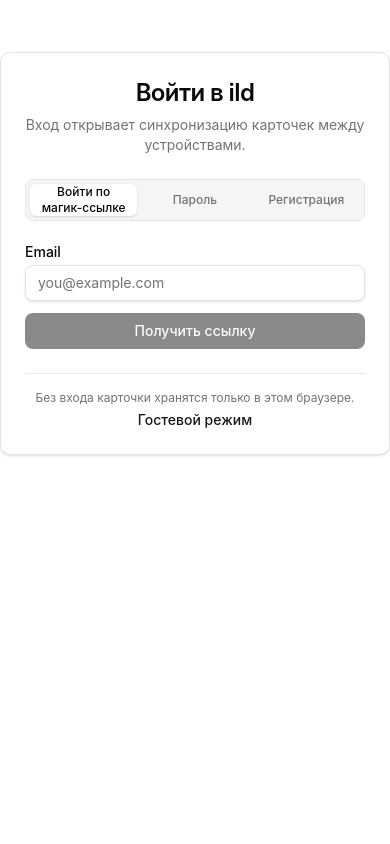
Test: LoginPage › register fail username_taken (409): shows "username уже занят"
Click the tab "Регистрация" at (306, 200), box [253, 184, 360, 216]
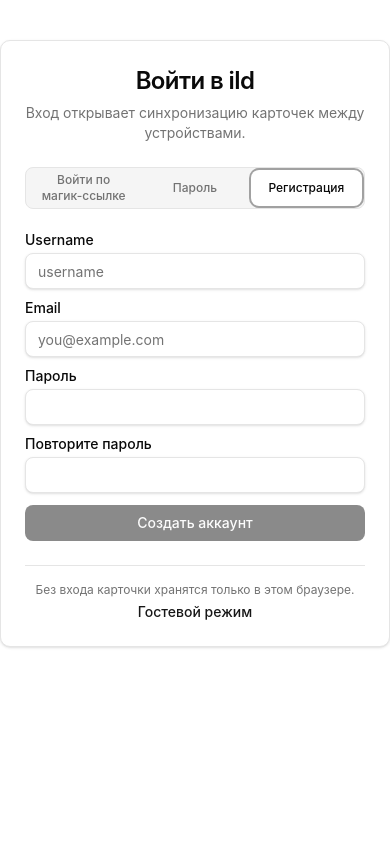
Type "taken_user" into the field labelled "Username" at (195, 271), box [25, 253, 365, 289]
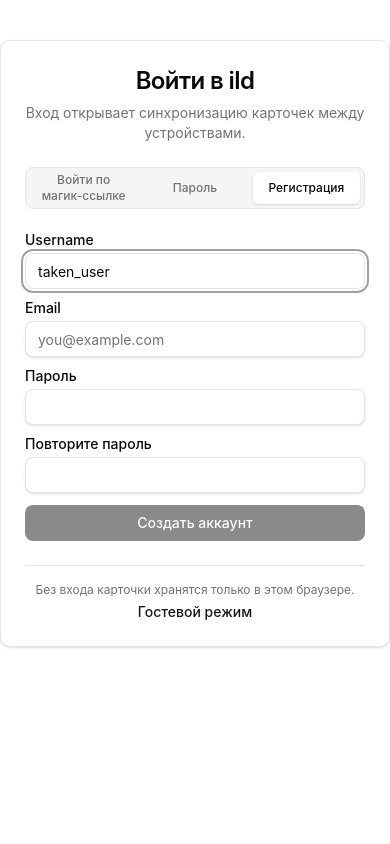
Type "fresh@example.com" into the field labelled "Email" at (195, 339), box [25, 321, 365, 357]
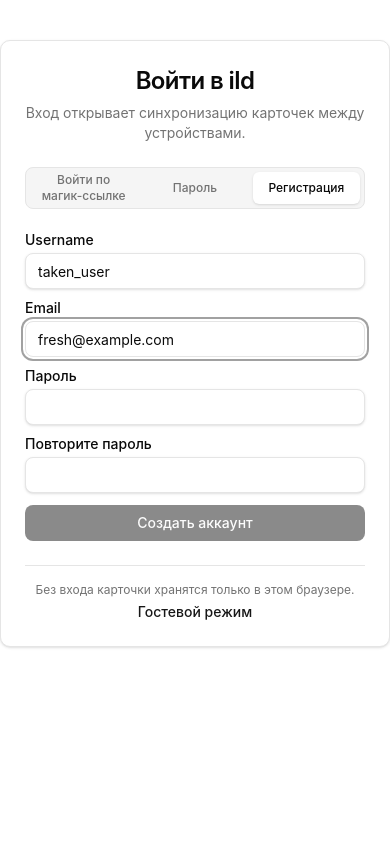
Type "longenough" into the password field labelled "Пароль" at (195, 407), box [25, 389, 365, 425]
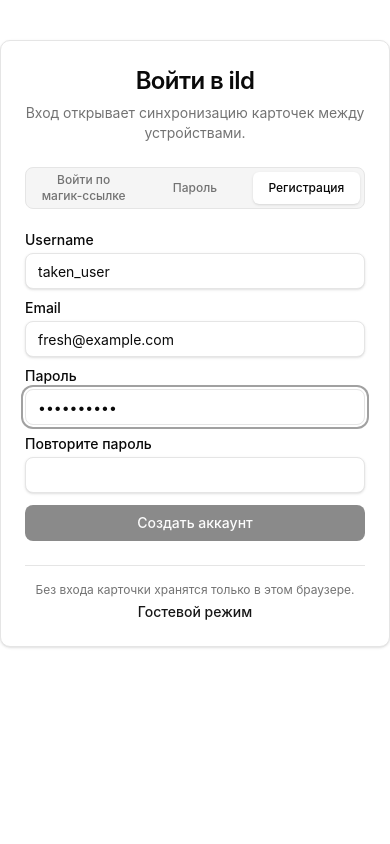
Type "longenough" into the password field labelled "Повторите пароль" at (195, 475), box [25, 457, 365, 493]
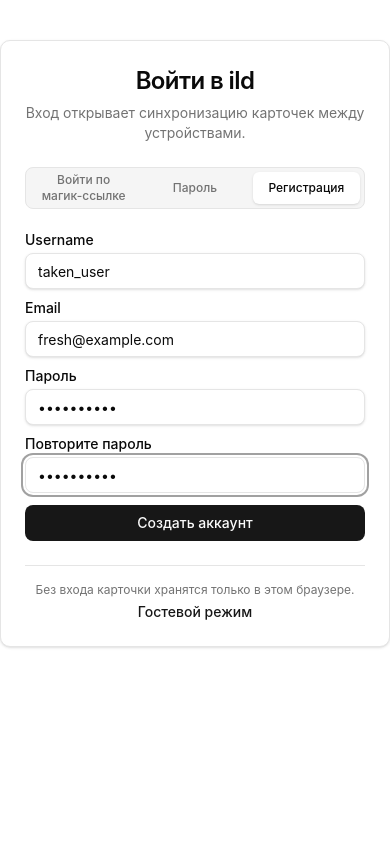
Click the button "Создать аккаунт" at (195, 523), box [25, 505, 365, 541]
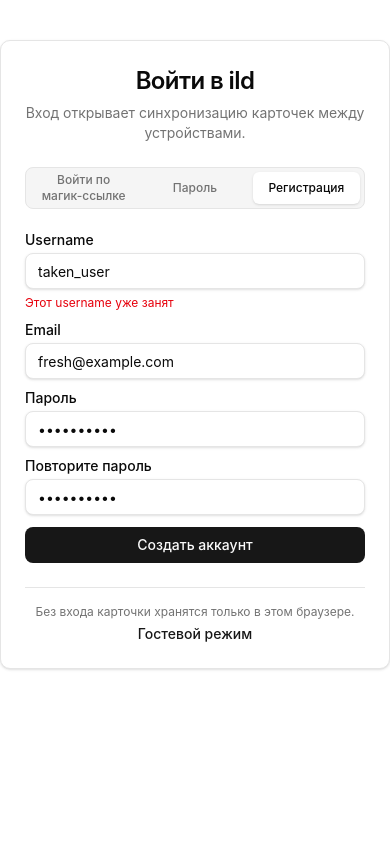
Check: the text "Этот username уже занят" is shown, box [25, 295, 174, 310]
